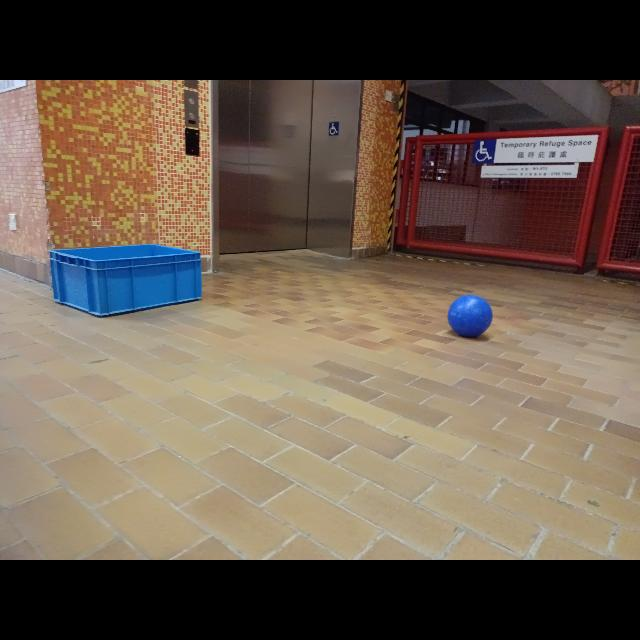B: (448, 292, 498, 338)
